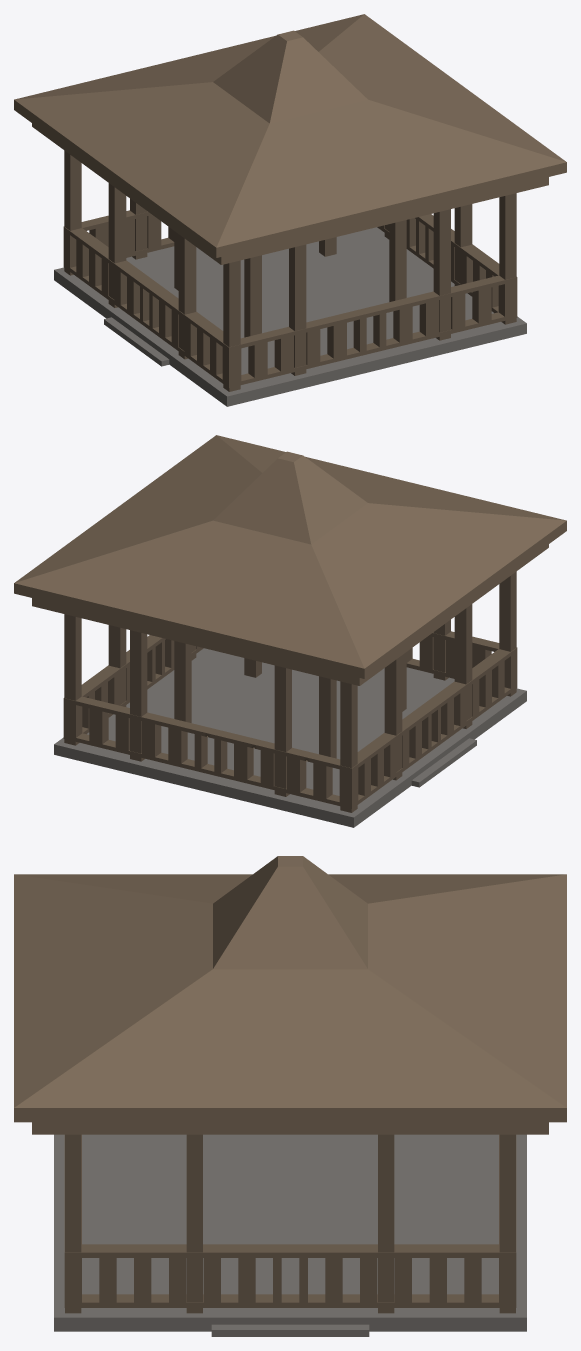
File: B_Kemandungan.fbx
The picture shows the model from 3 angles, top to bottom: view 1: azimuth 30°, elevation 25°; view 2: azimuth 150°, elevation 25°; view 3: azimuth 270°, elevation 25°; orthographic projection. The views are drawn at different scales.
Visible parts, largest first — view 1: B_Kemandungan; view 2: B_Kemandungan; view 3: B_Kemandungan.
Boxes of the visible parts, bbox=[...] form: B_Kemandungan: bbox=[14, 14, 566, 406]; B_Kemandungan: bbox=[14, 435, 566, 827]; B_Kemandungan: bbox=[14, 856, 566, 1336].
Size of the model in its own units: 400 by 296 by 400.
1 material, 1 textured.
